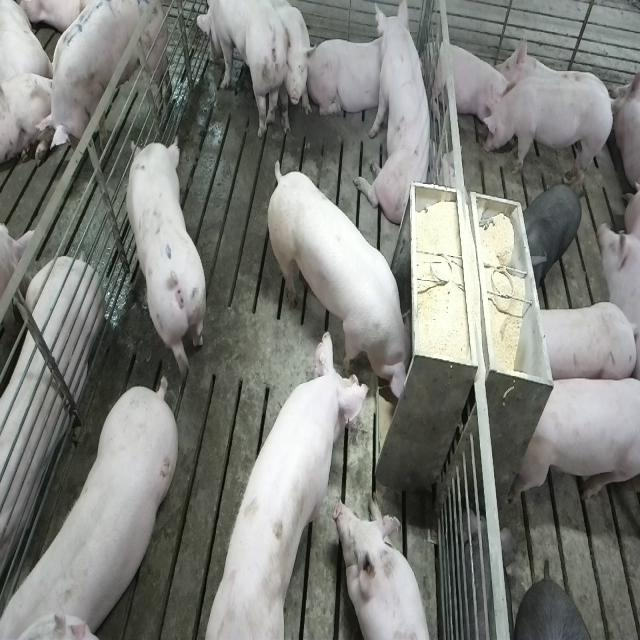Feeding: (197, 316, 370, 634), (271, 161, 421, 411)
Sitting: (355, 4, 437, 227), (194, 2, 316, 144)
Standing: (5, 373, 183, 635), (36, 0, 175, 168), (124, 134, 207, 384), (513, 374, 637, 511), (482, 78, 618, 184), (527, 300, 635, 384), (523, 176, 583, 286)
Sternal_lying: (0, 234, 100, 590), (337, 496, 437, 640), (430, 36, 508, 132), (309, 34, 390, 122)
